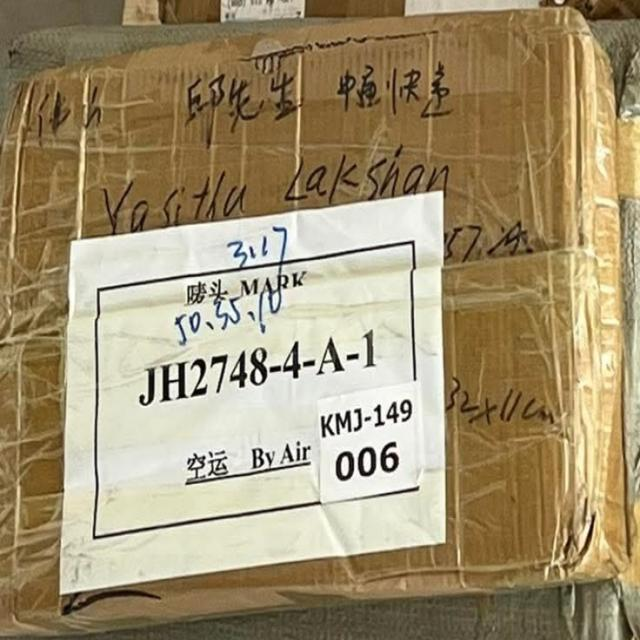carton_box: (0, 1, 640, 640)
export_mark_label: (61, 216, 460, 590)
package_damage: (156, 17, 435, 74), (537, 475, 627, 626), (49, 574, 184, 638)
